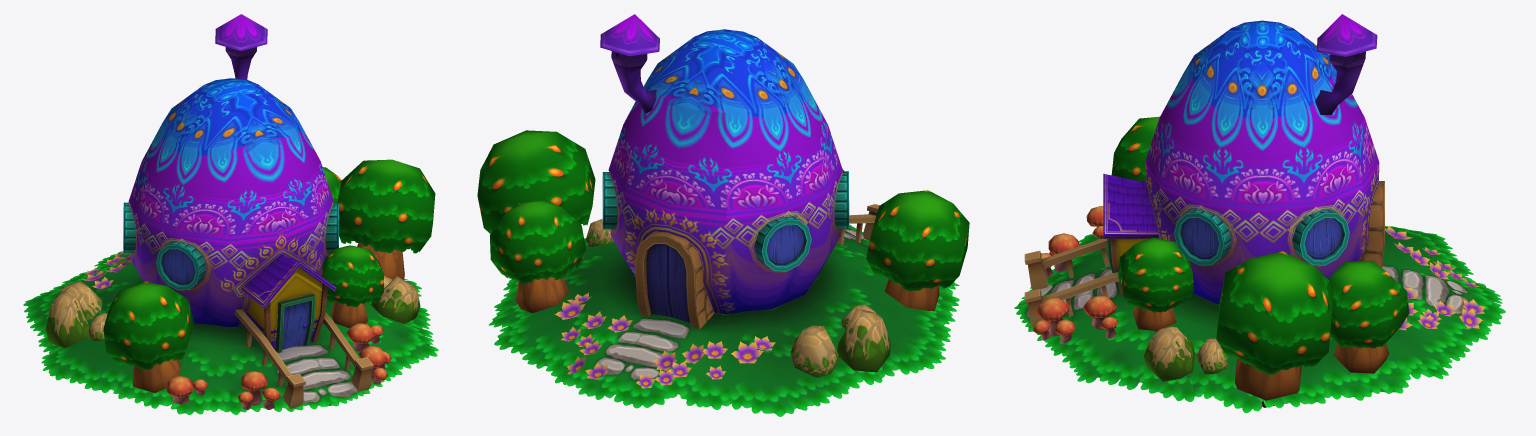
Rendered from Egg_House_03.FBX.
The picture shows the model from 3 angles, left to right: view 1: azimuth 30°, elevation 25°; view 2: azimuth 150°, elevation 25°; view 3: azimuth 270°, elevation 25°; orthographic projection. The views are drawn at different scales.
Visible parts, largest first — view 1: Egg_House_03; view 2: Egg_House_03; view 3: Egg_House_03.
Part boxes in pixels (<box>): Egg_House_03: <box>23,14,438,415</box>; Egg_House_03: <box>477,14,969,416</box>; Egg_House_03: <box>1014,14,1505,413</box>.
Bounding box in the file's own units: 4.85 × 3.23 × 4.67.
